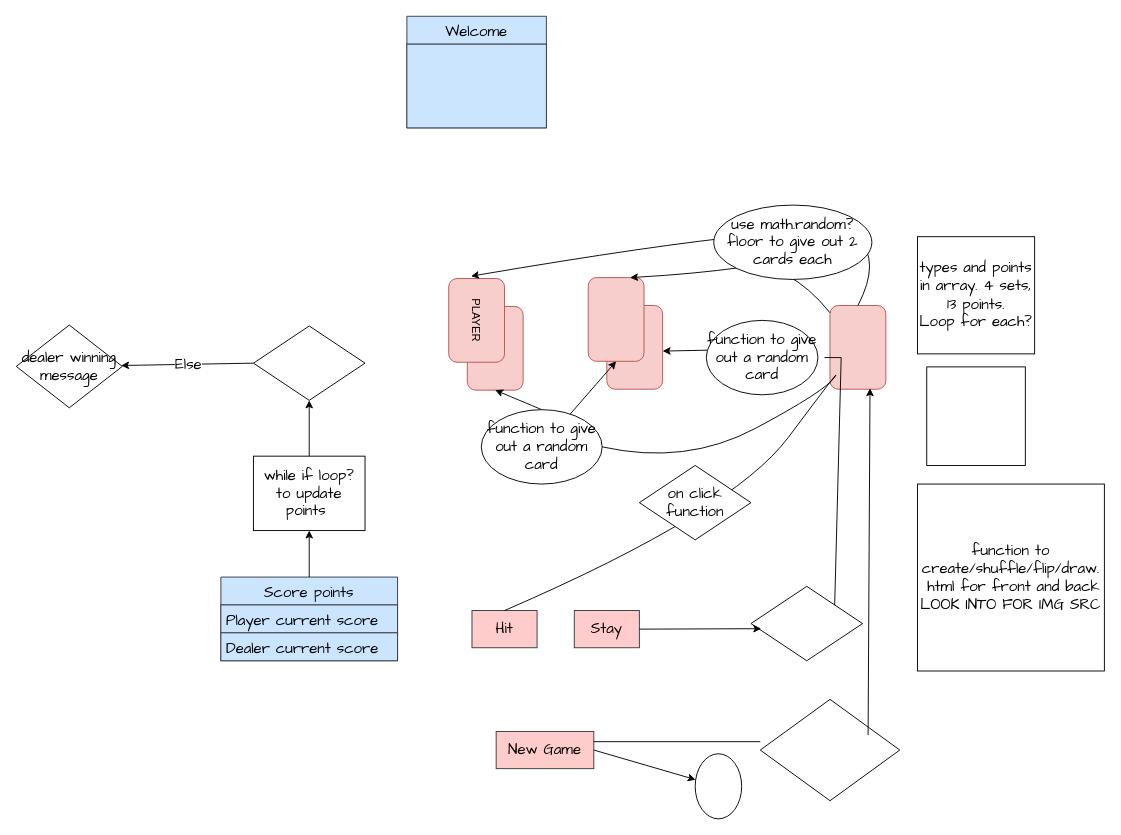
The diagram is 1121 pixels wide and 835 high, and some of its shapes have lost their labels. Each missing label, with the box of its shape:
1. game instruction 2. Message area 3. background animation: (406, 43, 546, 128)
DEALER: (587, 277, 644, 361)
DECK: (829, 305, 886, 389)
on click function to give out random 2 cards each: (759, 698, 900, 801)
on click, skip player turn: (750, 585, 863, 661)
reset function: (694, 753, 742, 819)
set the points for K,Q,J,A: (926, 366, 1025, 465)
winning message: (252, 325, 365, 400)
